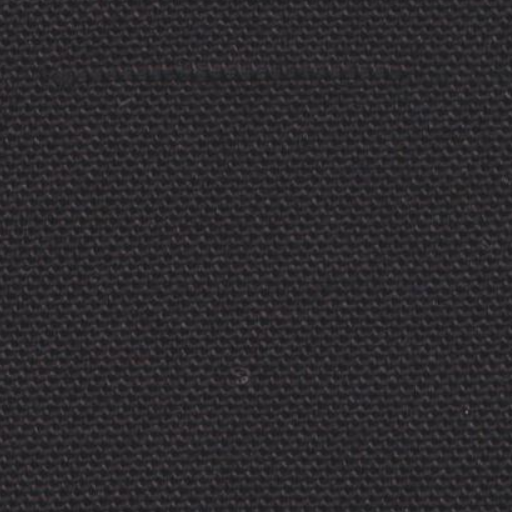DaiSha: (84, 46, 440, 98)
